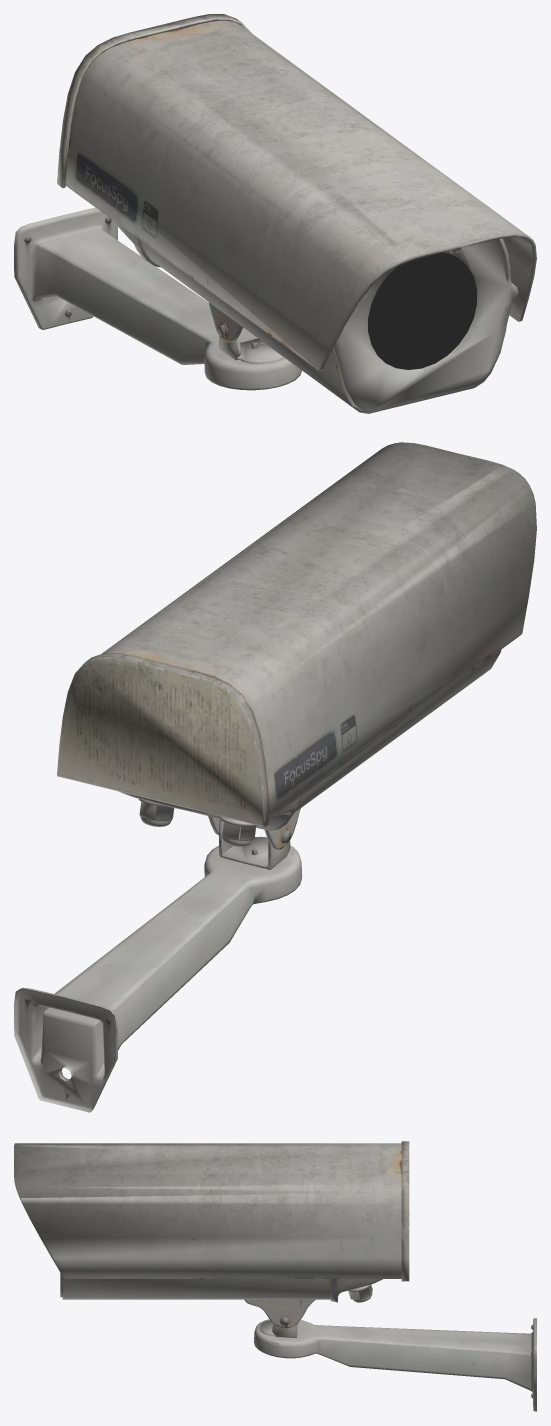
Rendered from security_camera_01.glb.
3 views of the same model, one above another, from view 1: azimuth 30°, elevation 25°; view 2: azimuth 150°, elevation 25°; view 3: azimuth 270°, elevation 25° (orthographic). The views are drawn at different scales.
Parts seen in each view (by area): view 1: security_camera_01; view 2: security_camera_01; view 3: security_camera_01.
Part boxes in pixels (x1,y1,x2,y2): security_camera_01: (14, 14, 536, 413); security_camera_01: (14, 442, 536, 1112); security_camera_01: (14, 1141, 536, 1411).
Size of the model in its own units: 0.1696 by 0.286 by 0.5537.
Materials: 2 (2 with a texture image).
